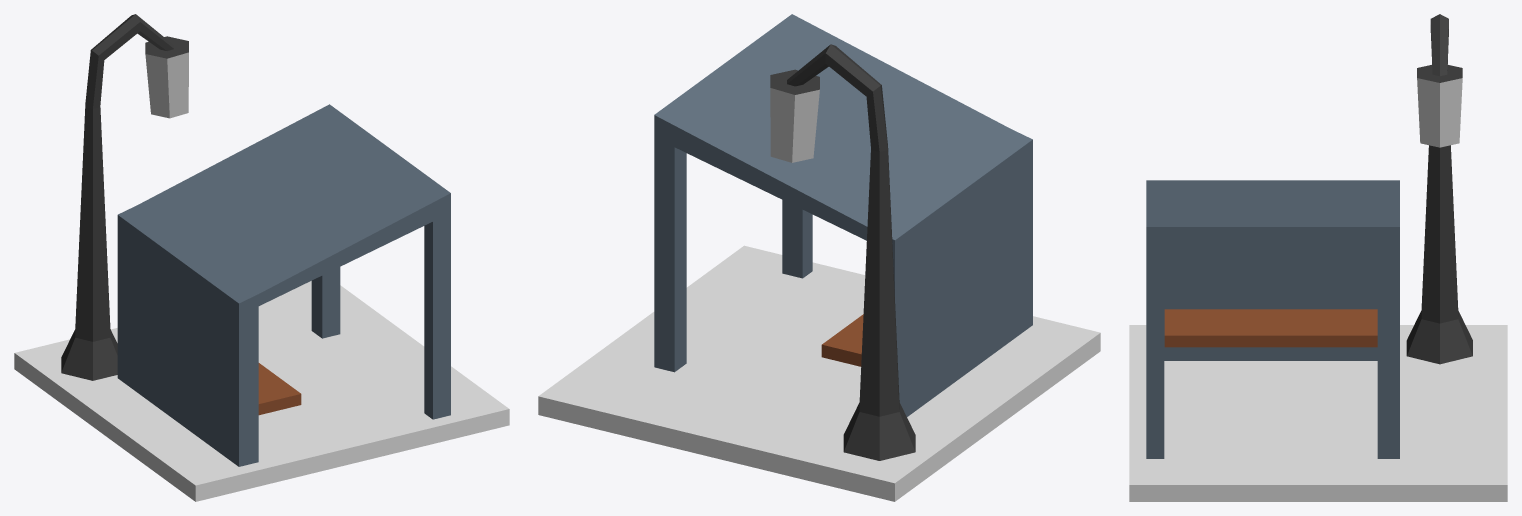
Rendered from lamp2_1.FBX.
3 renders of one model, left to right at view 1: azimuth 30°, elevation 25°; view 2: azimuth 150°, elevation 25°; view 3: azimuth 270°, elevation 25°, orthographic. The views are drawn at different scales.
Visible parts, largest first — view 1: Cylinder001, Box002; view 2: Cylinder001, Box002; view 3: Cylinder001, Box002.
Part boxes in pixels (x1,y1,x2,y2): Cylinder001: (61,14,450,466); Box002: (14,281,509,501); Cylinder001: (654,14,1032,460); Box002: (538,245,1100,501); Cylinder001: (1146,14,1472,458); Box002: (1129,325,1507,501).
Bounding box in the file's own units: 1 × 1.09 × 1.
Materials: 4 (4 with a texture image).
